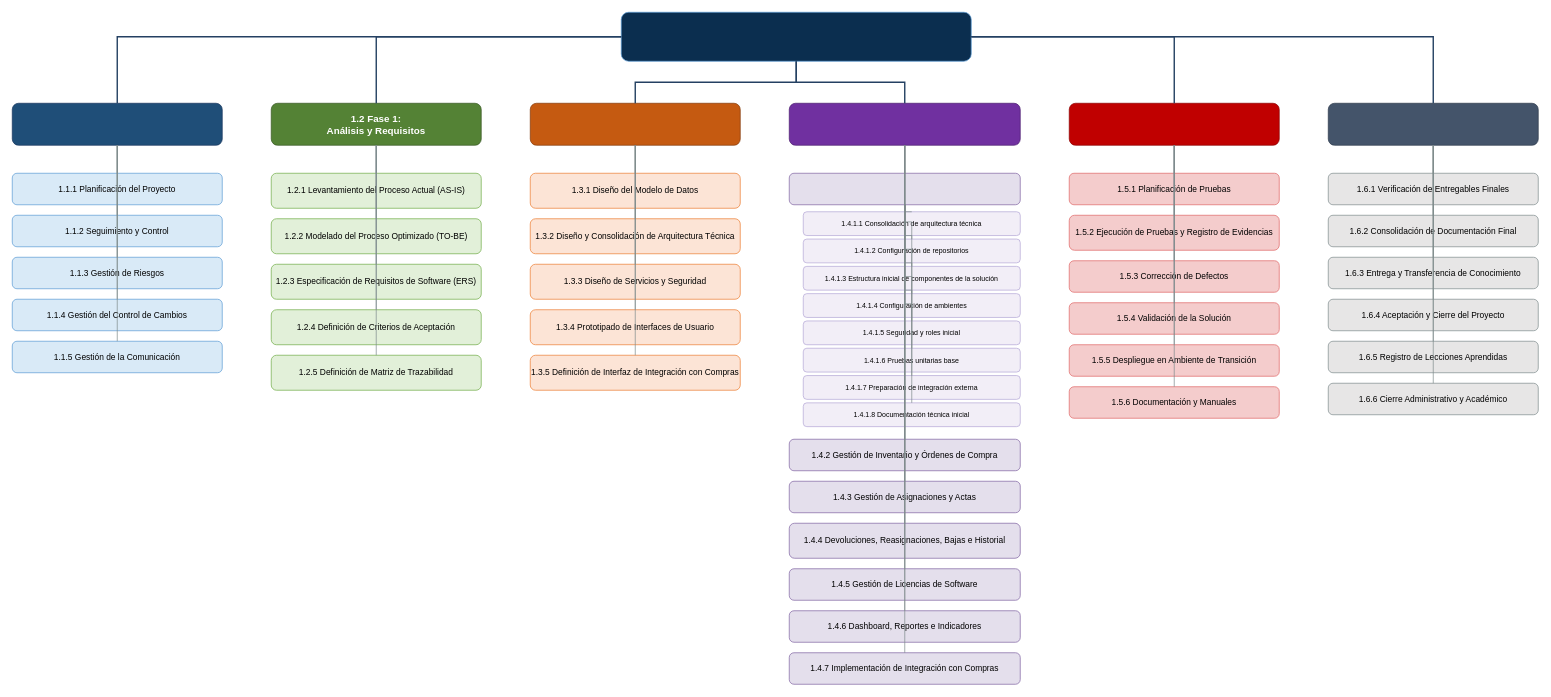
This 1551x697 diagram has some shape labels left out. Here are the shapes that lost their labels. From the top down, the centre of each, then its label:
At pixel 796 36: "1. GATI Gestión de Activos Tecnológicos e Informáticos".
At pixel 117 124: "1.1 Gestión del Proyecto (Transversal)".
At pixel 635 124: "1.3 Fase 2: Diseño y Arquitectura".
At pixel 904 124: "1.4 Fase 3: Construcción e Integración".
At pixel 1174 124: "1.5 Fase 4: Pruebas y Transición".
At pixel 1433 124: "1.6 Fase 5: Cierre del Proyecto".
At pixel 904 189: "1.4.1 Preparación Técnica del Desarrollo".
